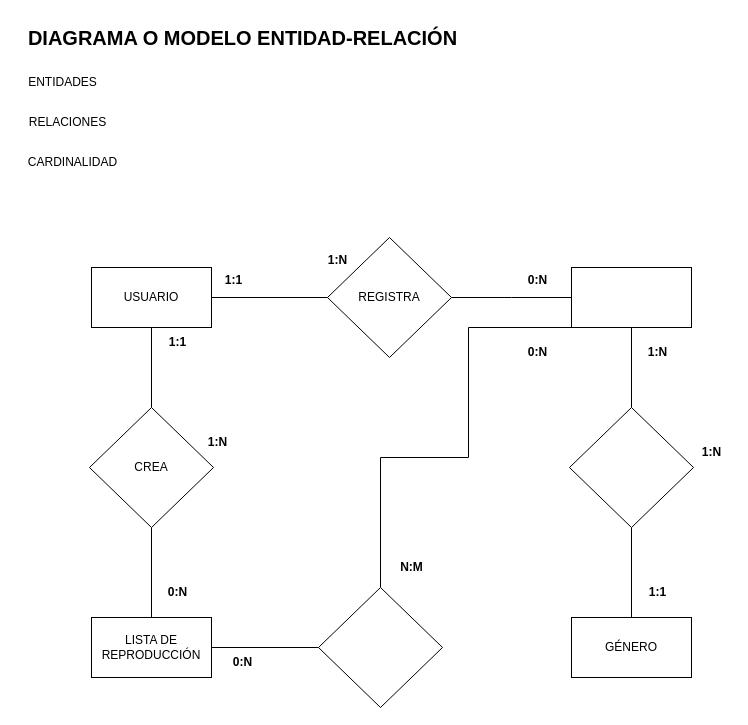
This 748x725 diagram has some shape labels left out. Each missing label, with the centre of its shape:
AGRUPA: [380,647]
MÚSICA: [631,297]
TIENE: [631,467]
